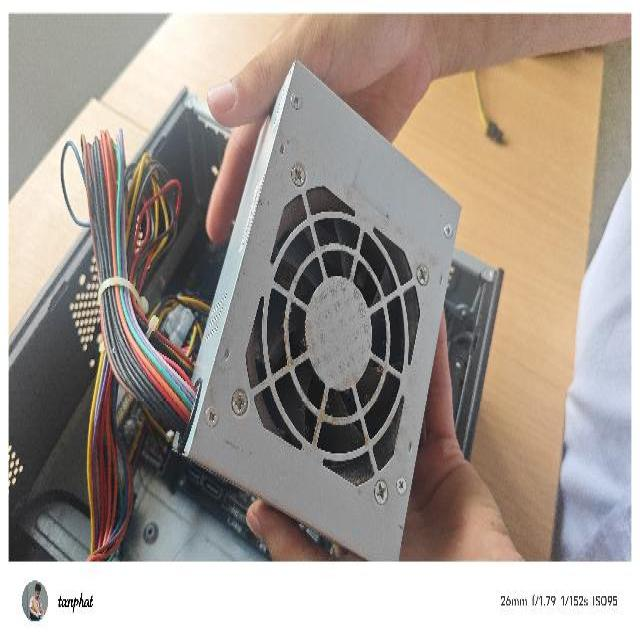PSU: (169, 55, 463, 563)
